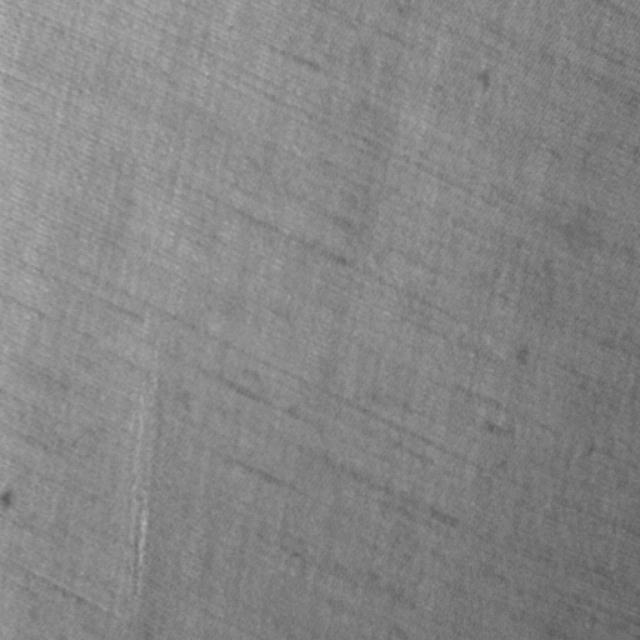thread error: (122, 300, 160, 595)
